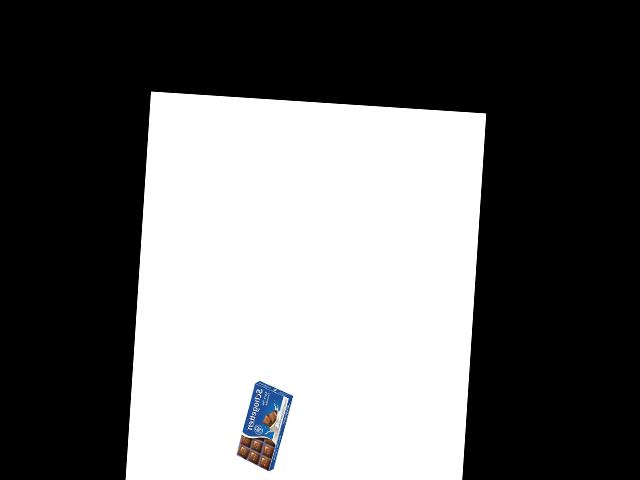chocolate: (235, 378, 286, 473)
